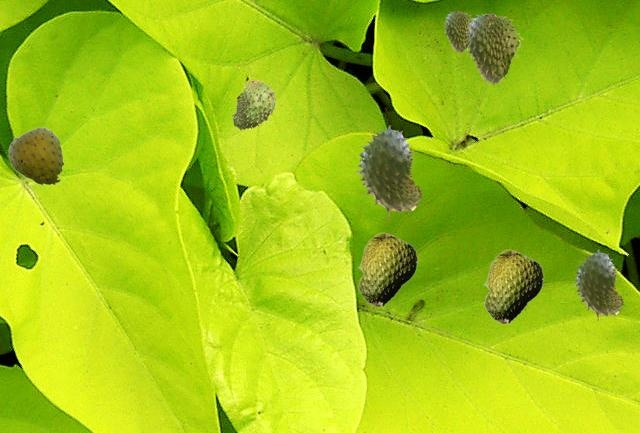guyabano: (356, 125, 422, 218), (357, 232, 417, 307), (483, 249, 543, 324), (464, 13, 522, 84), (573, 249, 623, 320), (7, 127, 63, 185), (231, 80, 275, 129), (443, 11, 471, 52)
